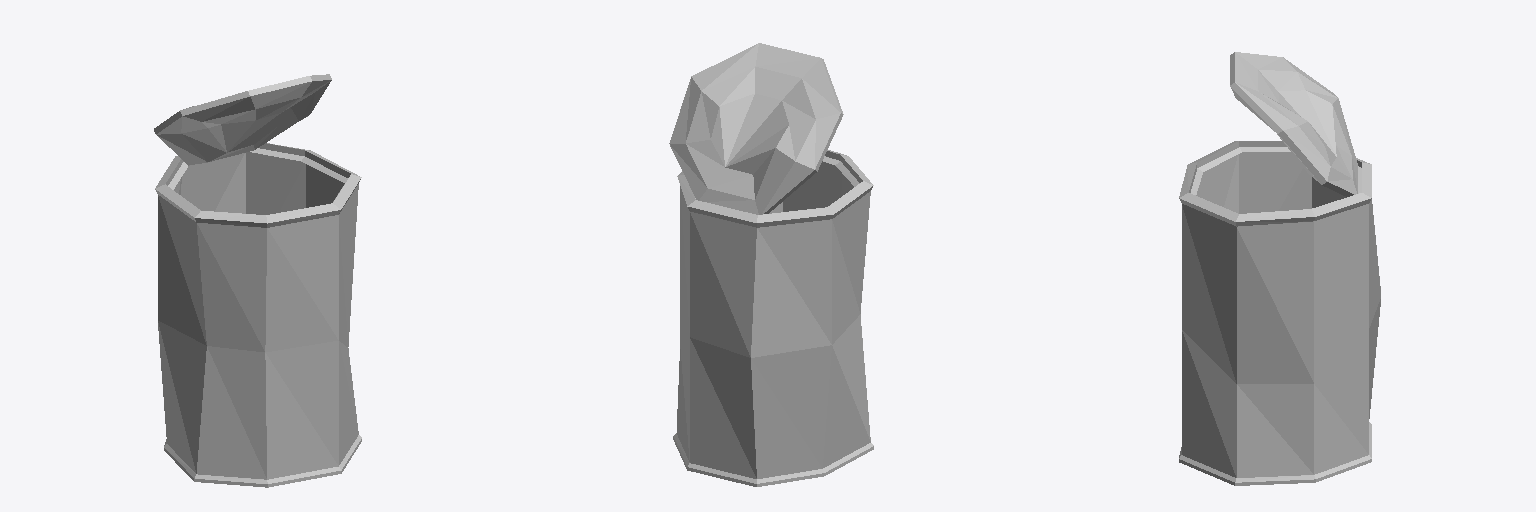
Rendered from AddedTrashScene.obj.
3 renders of one model, left to right at view 1: azimuth 30°, elevation 25°; view 2: azimuth 150°, elevation 25°; view 3: azimuth 270°, elevation 25°, orthographic.
Visible parts, largest first — view 1: Can_01_GEO; view 2: Can_01_GEO; view 3: Can_01_GEO.
Boxes of the visible parts, <box> form: Can_01_GEO: <box>154,74,361,487</box>; Can_01_GEO: <box>669,43,873,486</box>; Can_01_GEO: <box>1179,52,1380,485</box>.
Bounding box in the file's own units: 8.34 × 17.96 × 8.73.